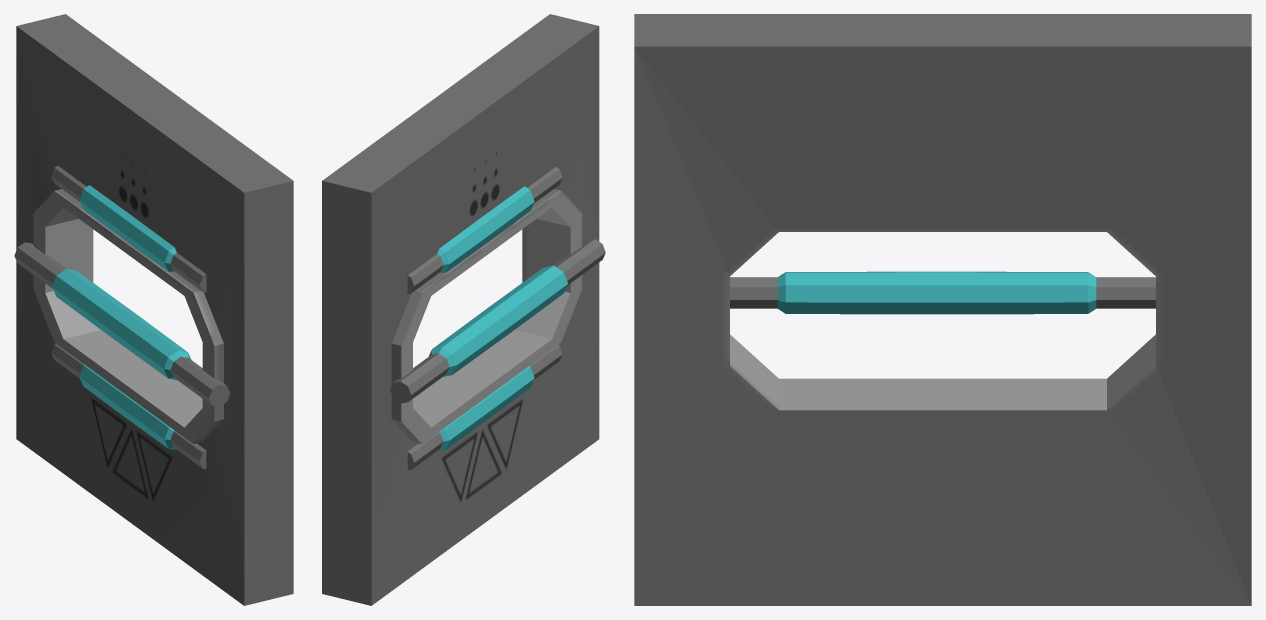
Rendered from SM_B1_Wall2.fbx.
The picture shows the model from 3 angles, left to right: view 1: azimuth 30°, elevation 25°; view 2: azimuth 150°, elevation 25°; view 3: azimuth 270°, elevation 25°; orthographic projection. The views are drawn at different scales.
Visible parts, largest first — view 1: SM_B1_Wall2; view 2: SM_B1_Wall2; view 3: SM_B1_Wall2.
Boxes of the visible parts, left/top/right/bottom form: SM_B1_Wall2: left=14, top=14, right=293, bottom=605; SM_B1_Wall2: left=322, top=14, right=605, bottom=605; SM_B1_Wall2: left=634, top=14, right=1251, bottom=605.
Bounding box in the file's own units: 76.26 × 406 × 406.
1 material, 1 textured.
